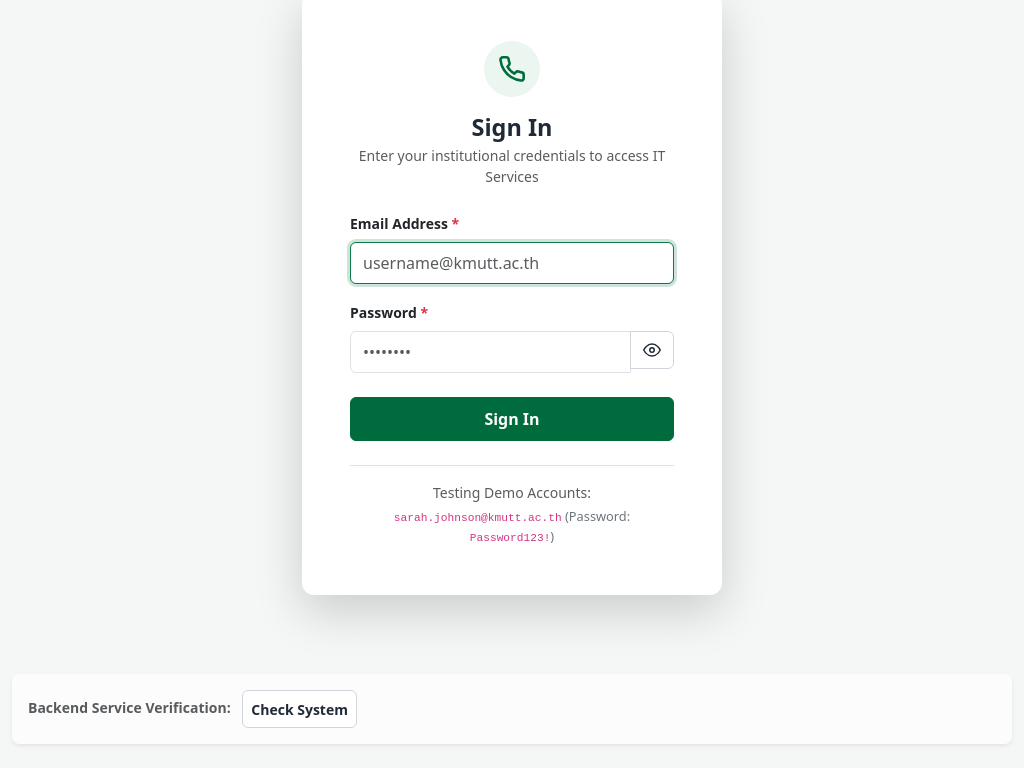
App › shows an Offline error message when the API is unavailable
(page scrolled)
Click the button "Check System" at coordinates (300, 709), box [242,690,357,728]
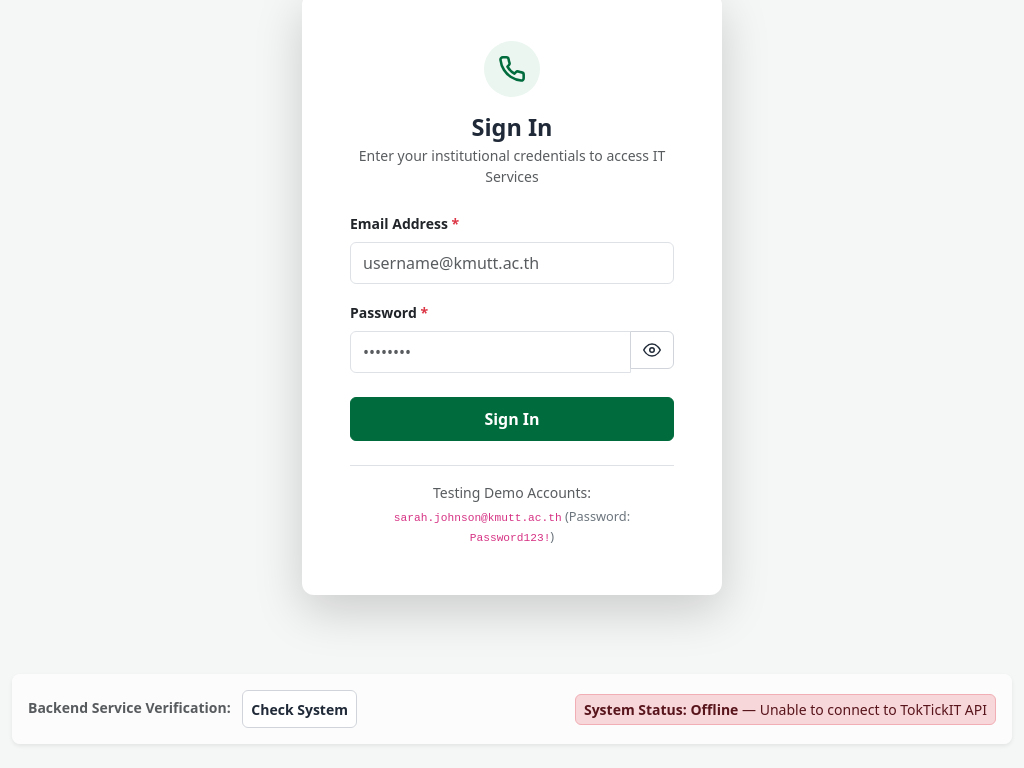
Check: the text "System Status: Offline" is shown, box [584,700,738,718]
Check: the text "System Status: Offline — Unable to connect to TokTickIT API" is shown, box [575,694,996,724]
